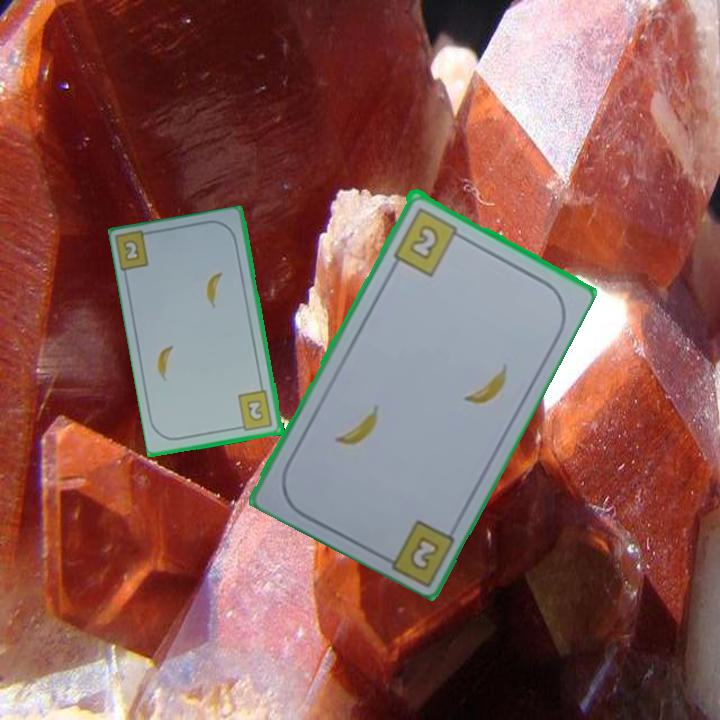2b: (389, 203, 467, 278), (114, 228, 158, 275), (234, 387, 276, 434), (406, 532, 443, 573)
